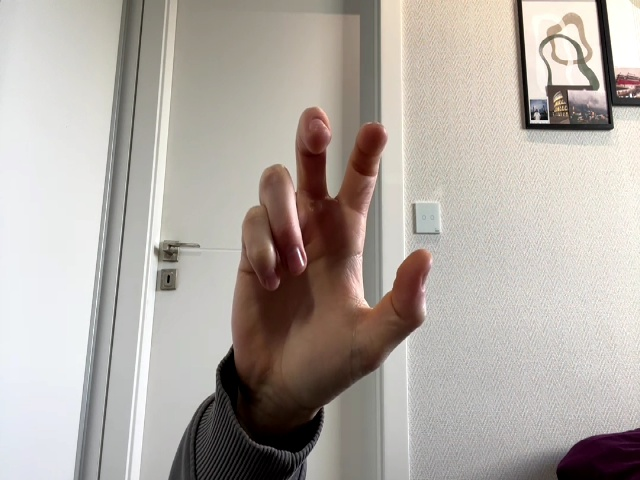CH: (232, 107, 433, 415)
